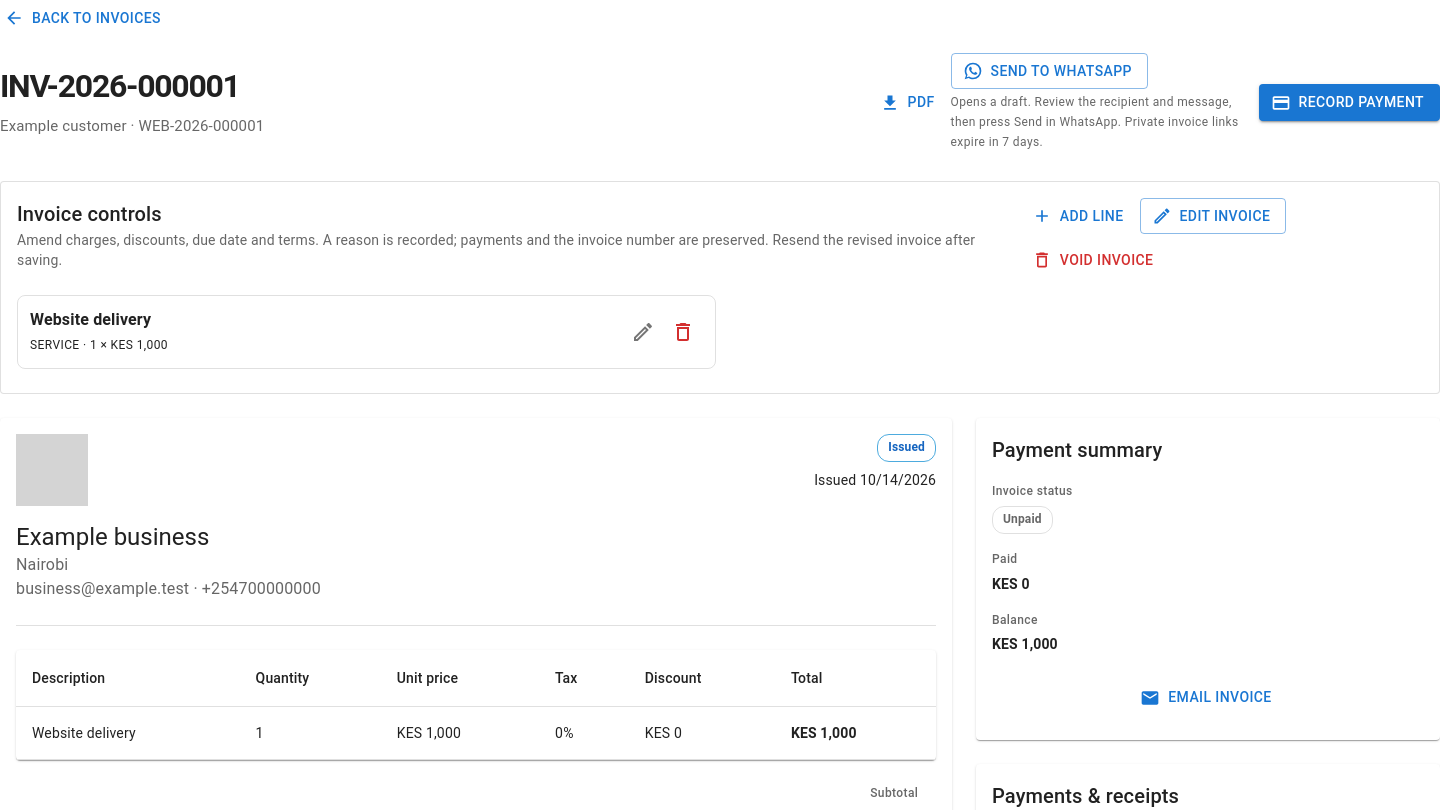
digital manual billing and KRA feature gate › updates an issued discount only with a reason and retains a failed edit
Click the button "Edit invoice": click(1213, 216) [1140,198,1286,234]
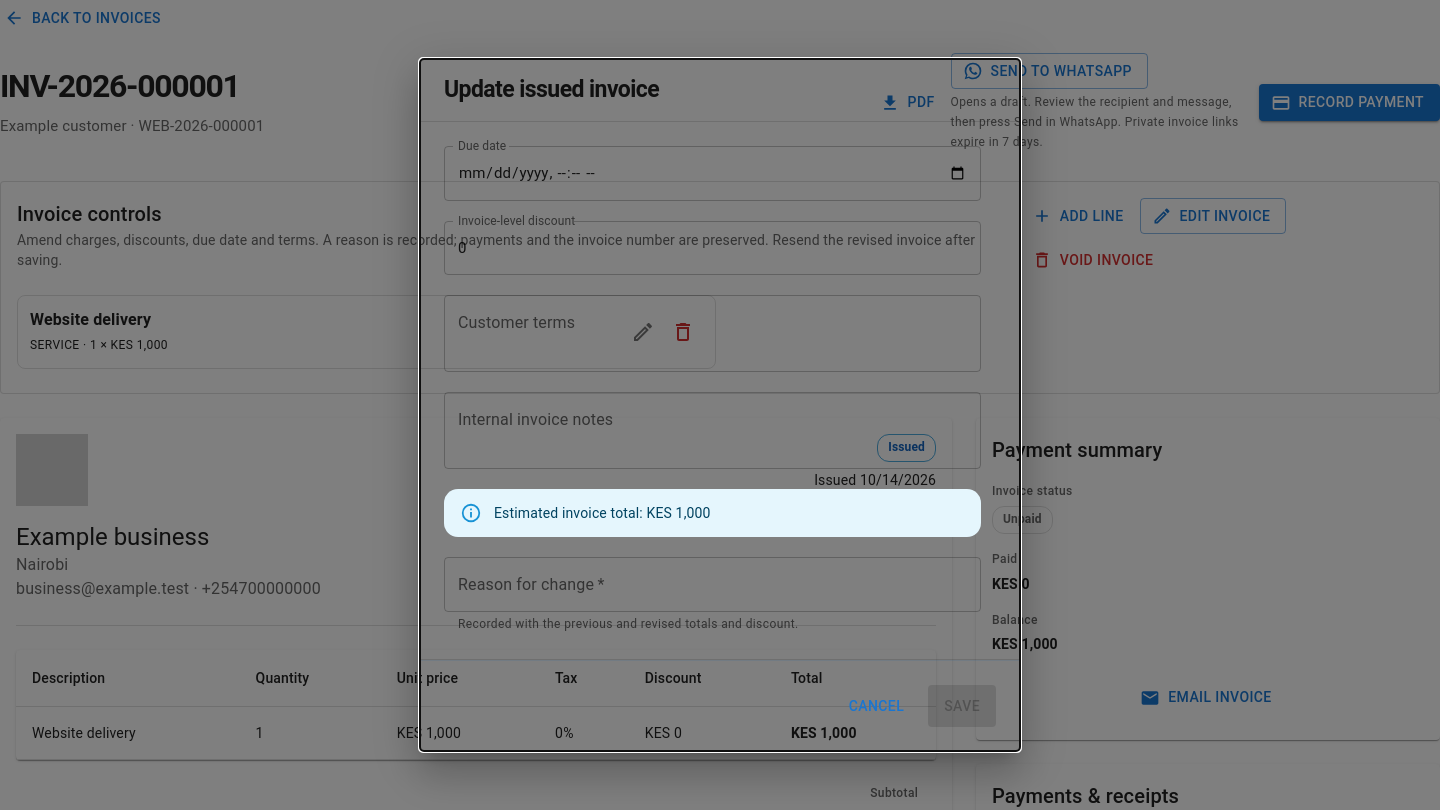
Expected: the button "Save" is disabled, [928,685,996,727]
Replace the text in the number field labelled "Invoice-level discount" with "100": (712, 248) [444,221,981,275]
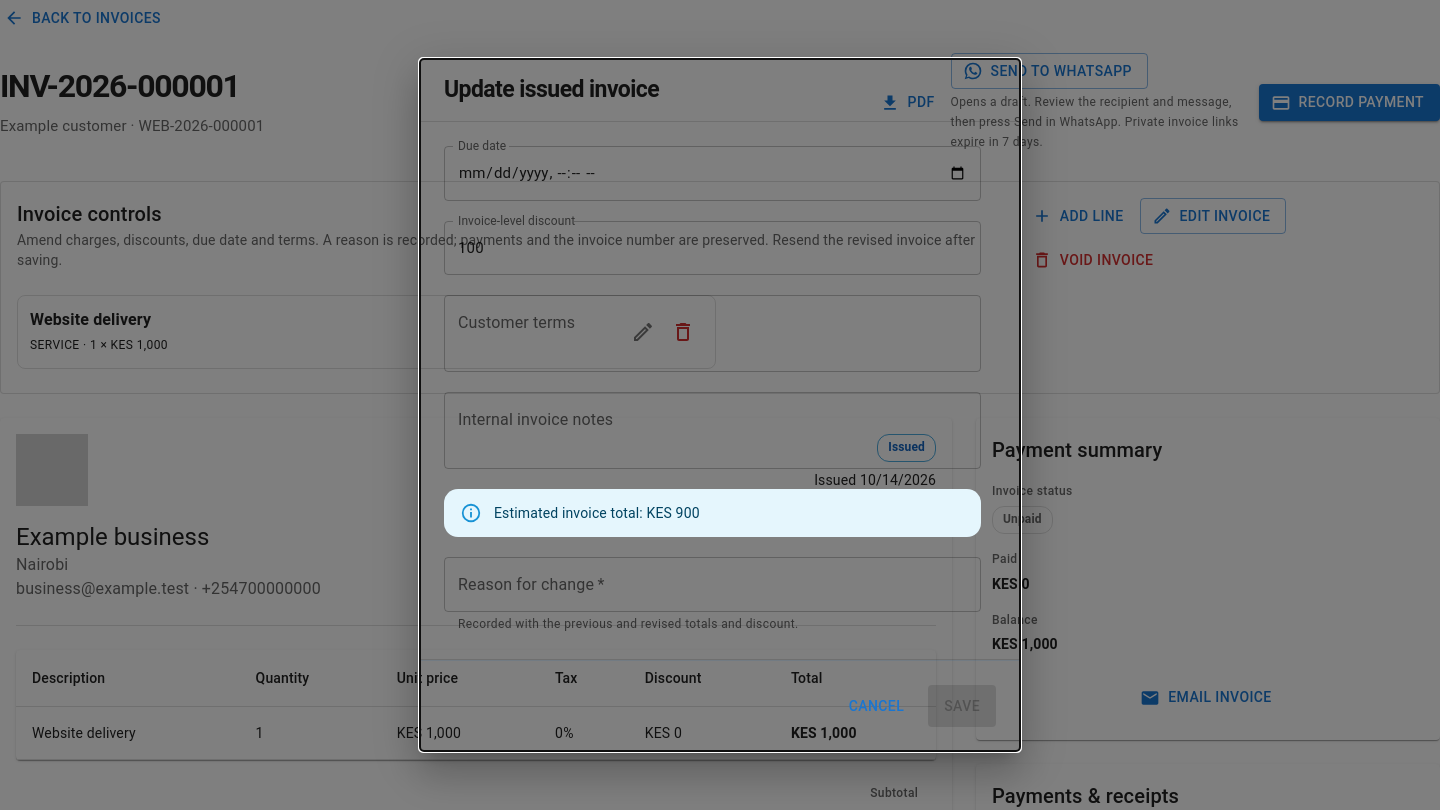
In the field labelled "Reason for change *": (712, 585) [444,557,981,612], type "Agreed customer discount"
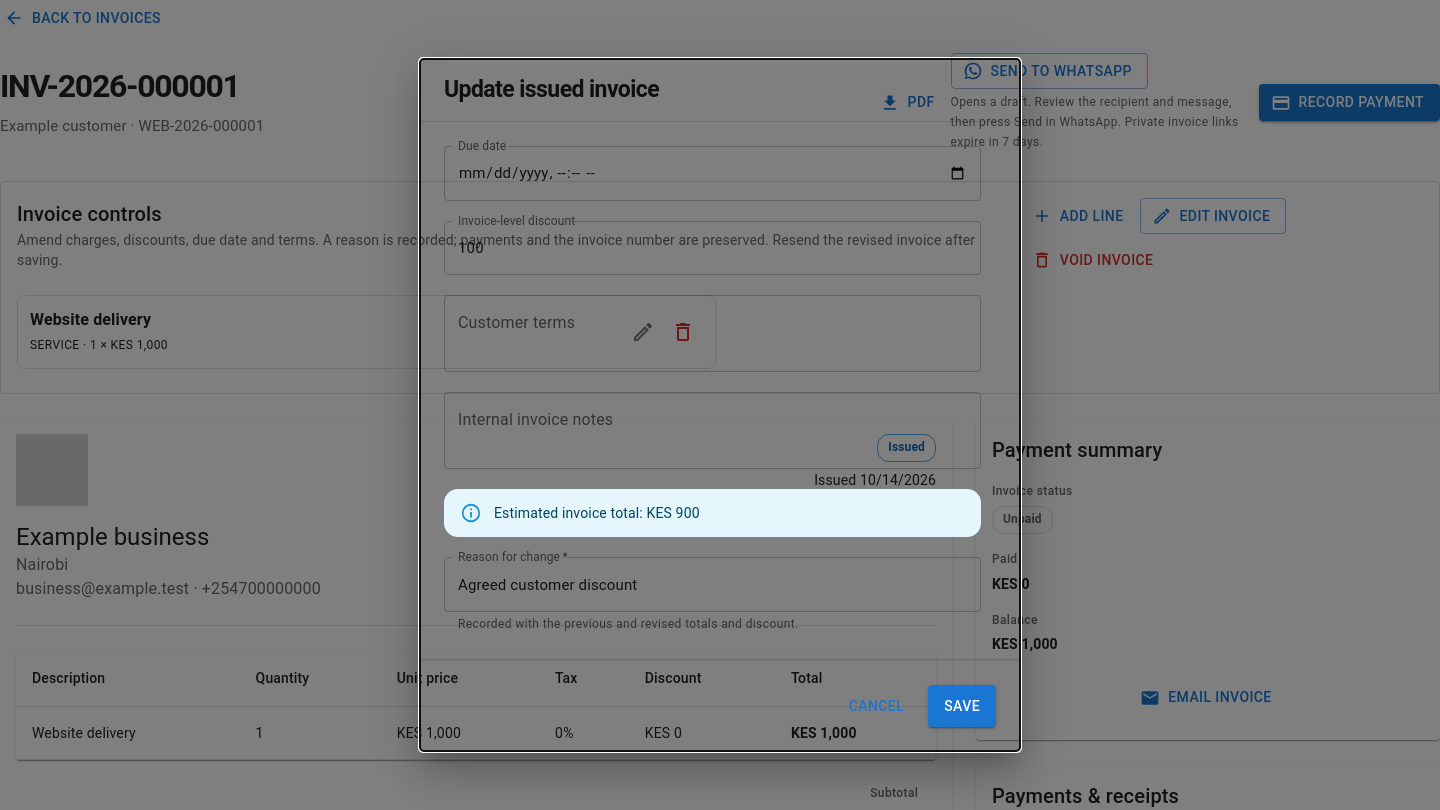
Expected: the button "Save" is enabled
Click the button "Save": click(962, 706) [928,685,996,727]
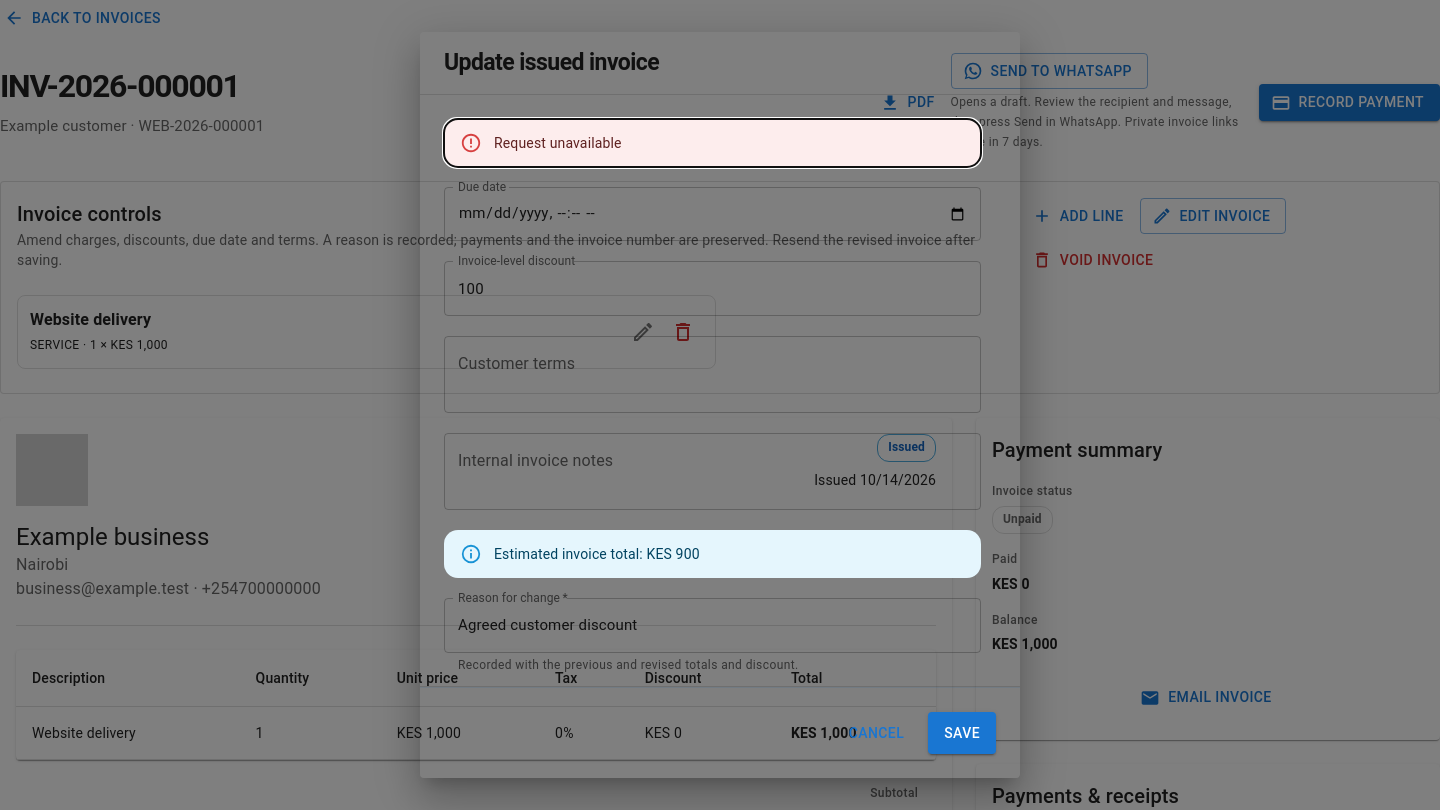
Expected: the text "Request unavailable" is shown, [494,135,622,151]
